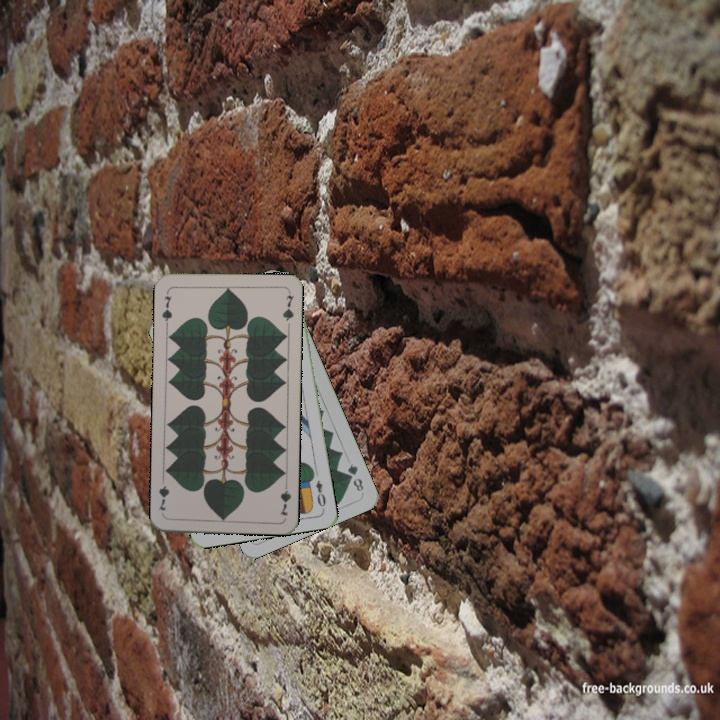EO: (312, 477, 328, 512)
G7: (276, 478, 294, 518), (158, 287, 175, 328)
G8: (343, 459, 366, 494)
